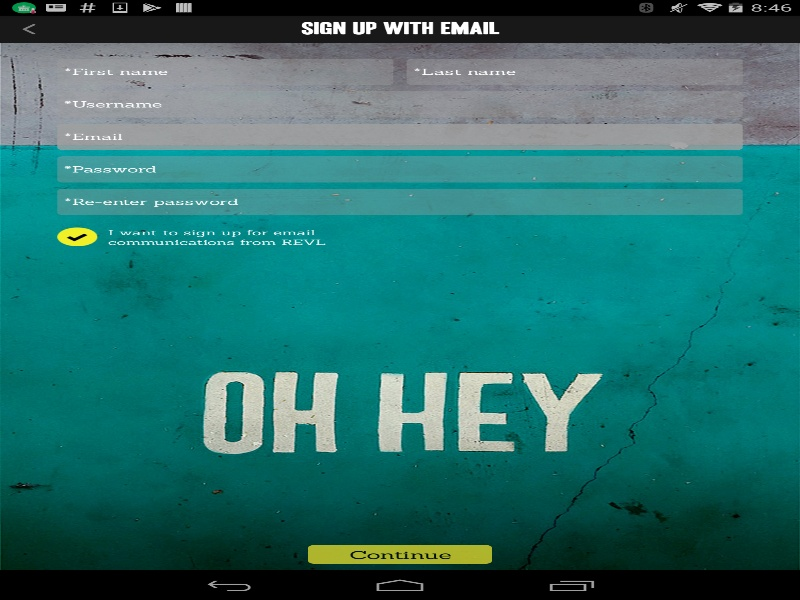Button: (308, 545, 492, 563), (0, 15, 58, 42), (57, 227, 97, 246)
Input: (57, 123, 742, 150), (57, 188, 742, 215), (57, 91, 742, 117), (57, 156, 742, 182), (57, 58, 393, 85), (406, 58, 742, 85)
